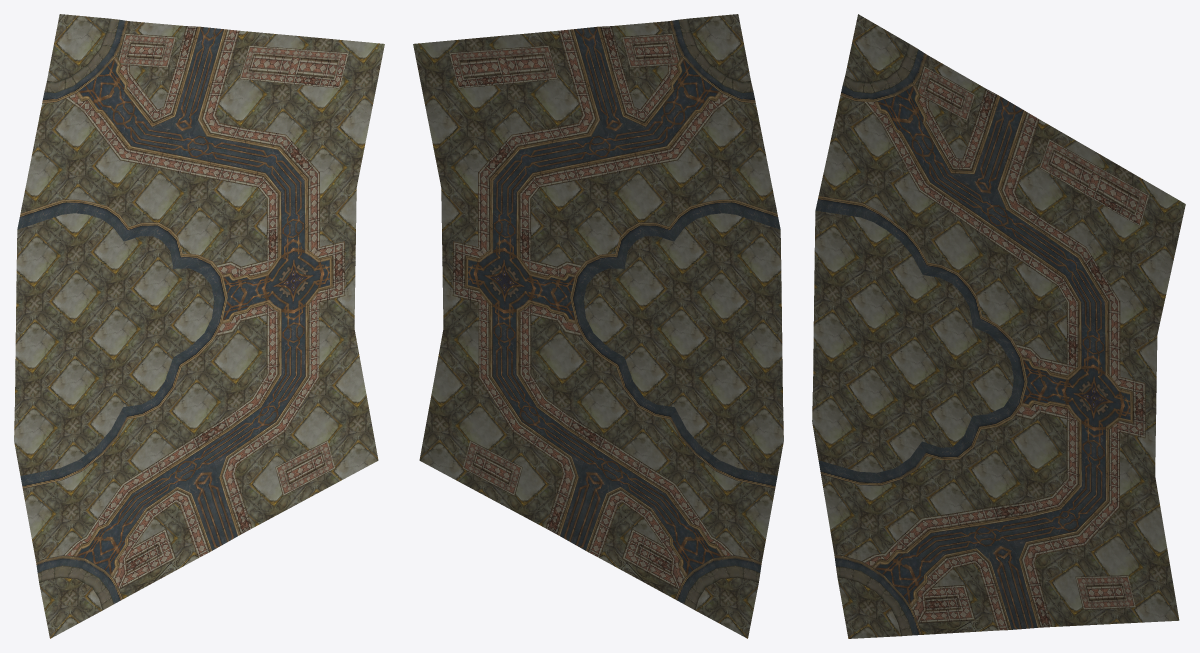
Rendered from zhucheng_yewai_291_qishiaera.obj.
The picture shows the model from 3 angles, left to right: view 1: azimuth 30°, elevation 25°; view 2: azimuth 150°, elevation 25°; view 3: azimuth 330°, elevation 25°; orthographic projection.
Visible parts, largest first — view 1: zhucheng_yewai_291_qishiAERA; view 2: zhucheng_yewai_291_qishiAERA; view 3: zhucheng_yewai_291_qishiAERA.
Part boxes in pixels (x1,y1,x2,y2): zhucheng_yewai_291_qishiAERA: [14, 14, 384, 638]; zhucheng_yewai_291_qishiAERA: [413, 14, 783, 638]; zhucheng_yewai_291_qishiAERA: [812, 14, 1185, 638].
Bounding box in the file's own units: 2150 × 3449 × 0.2014.
5 materials, 5 textured.
